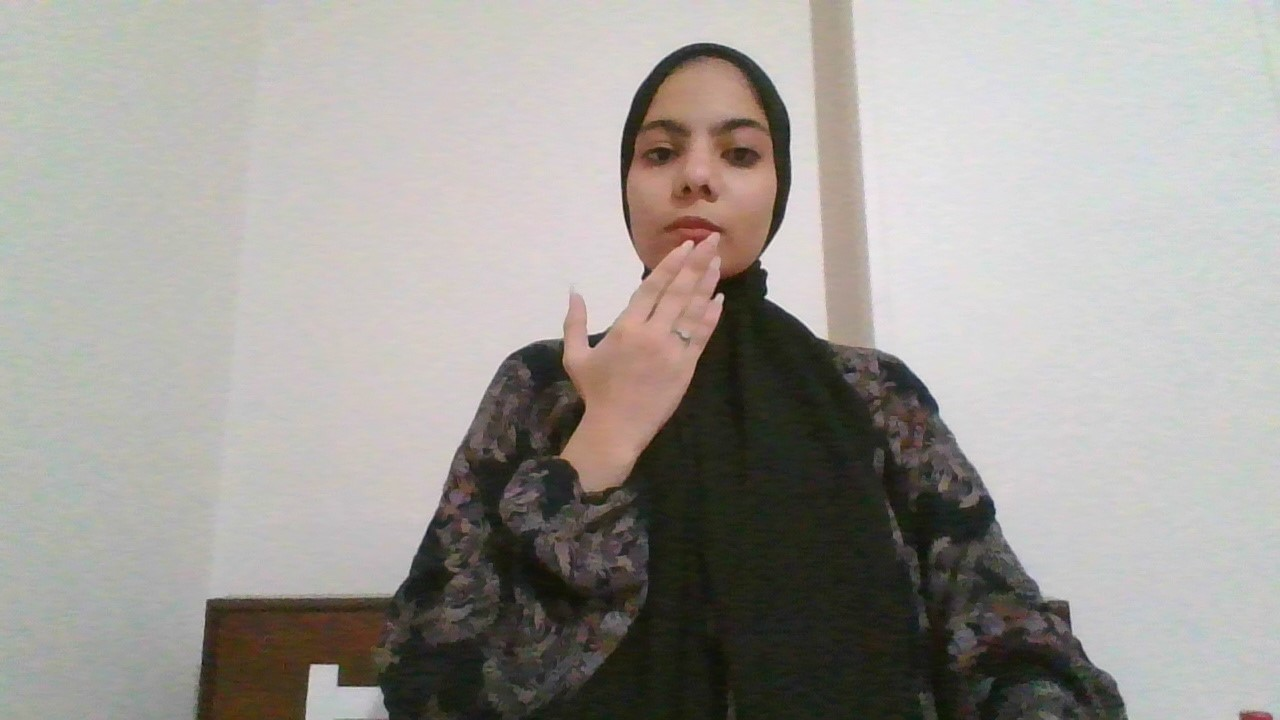thankyou: (535, 227, 734, 430)
